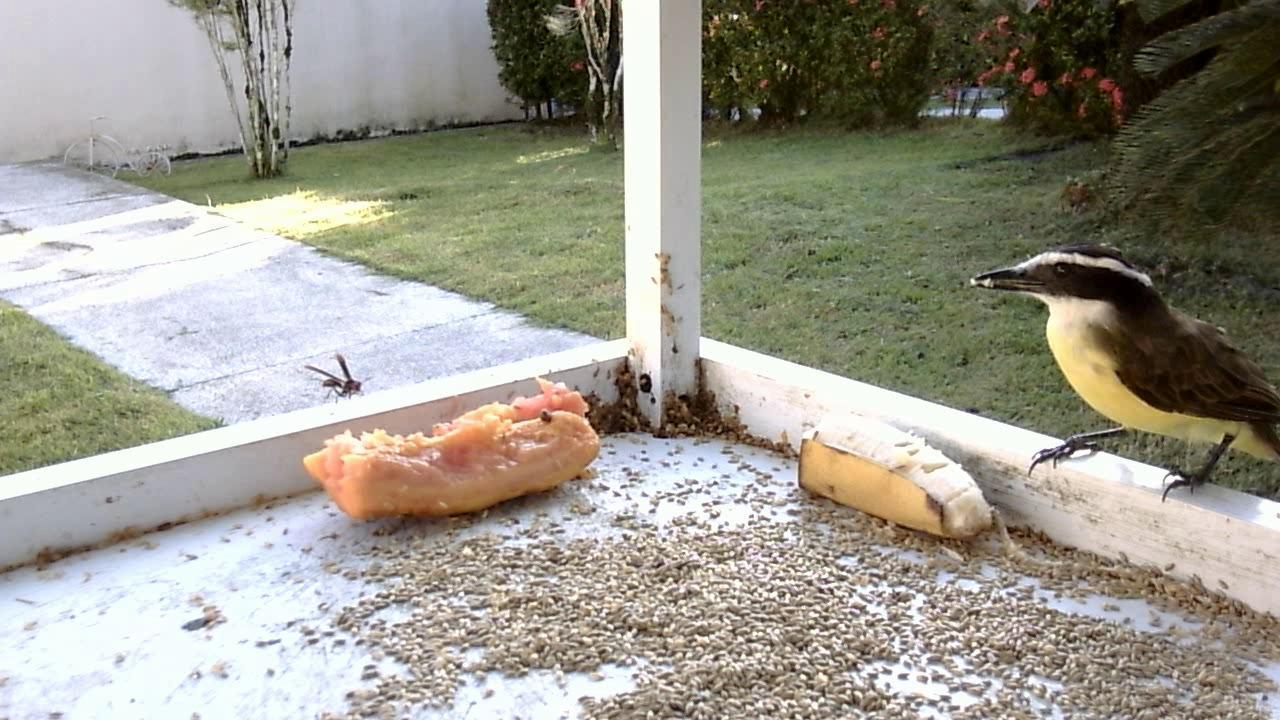bem_te_vi: (958, 231, 1280, 519)
